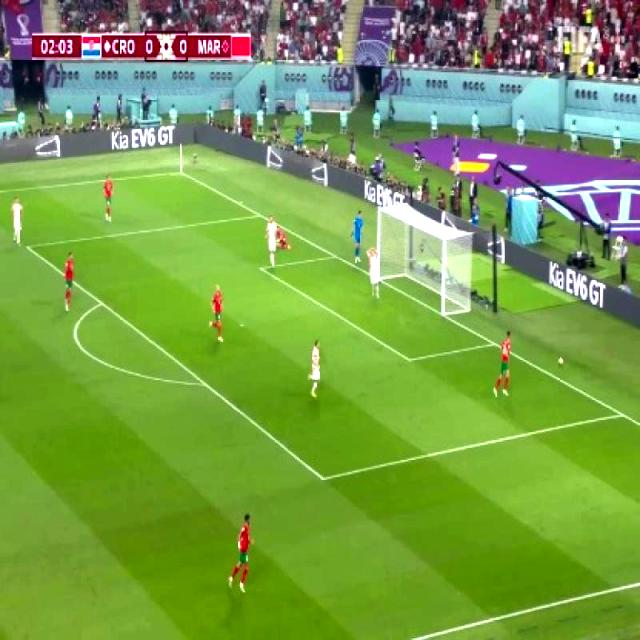bigarea_bottom_inner: (312, 465, 332, 490)
bigarea_bottom_outter: (612, 403, 631, 425)
bigarea_top_inner: (16, 235, 34, 257)
bigarea_top_outter: (252, 206, 266, 224)
bottom_arc_area_intersection: (195, 372, 212, 394)
corner: (171, 164, 186, 179)
smallarea_bottom_inner: (398, 344, 420, 372)
smallarea_bottom_outter: (484, 334, 502, 354)
smallarea_top_inner: (252, 257, 270, 278)
smallarea_top_outter: (326, 246, 342, 264)
top_arc_area_intersection: (92, 291, 110, 312)
